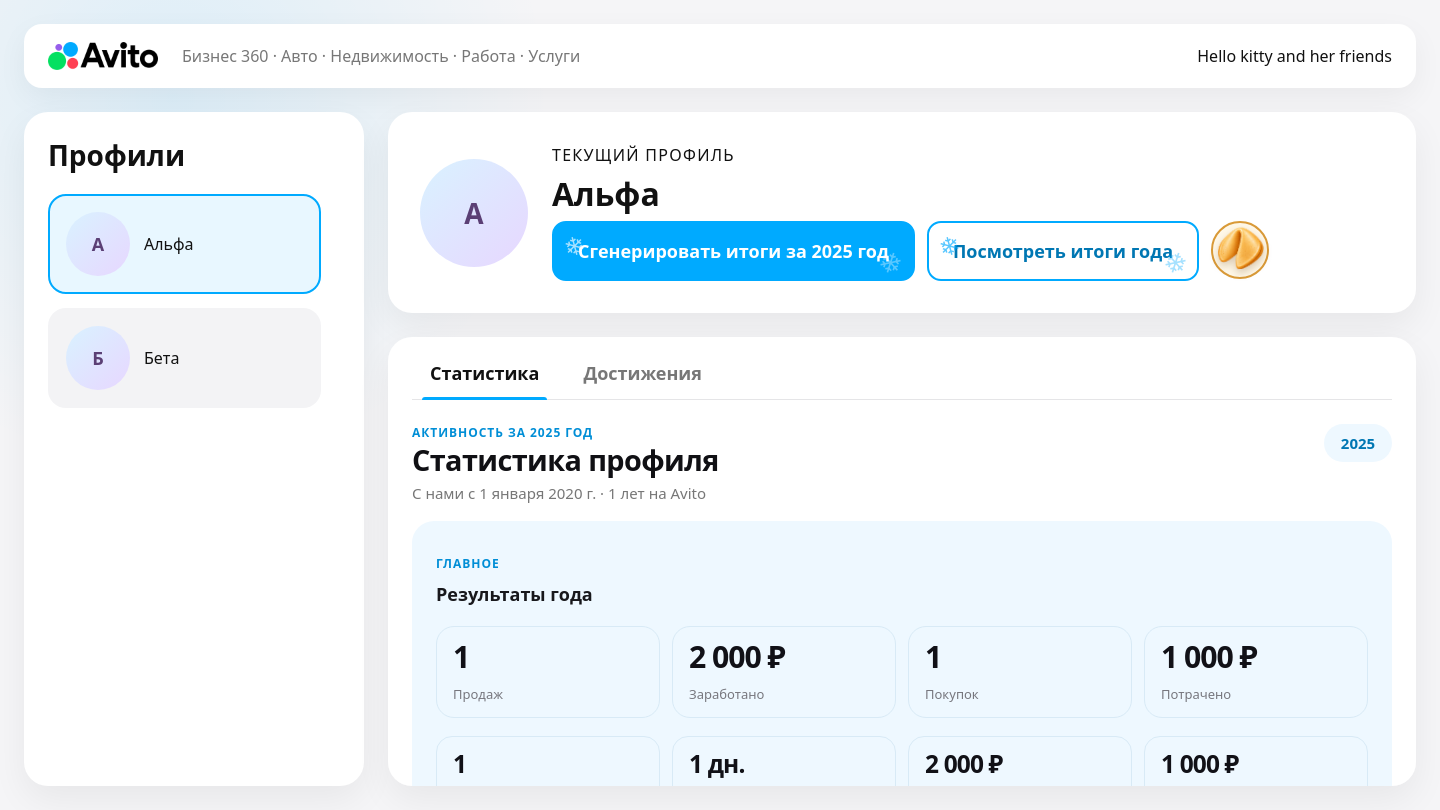
Test: смена профиля › загружает статистику и достижения выбранного профиля
Click the button "Б Бета" at (98, 358), box [48,308,321,408]
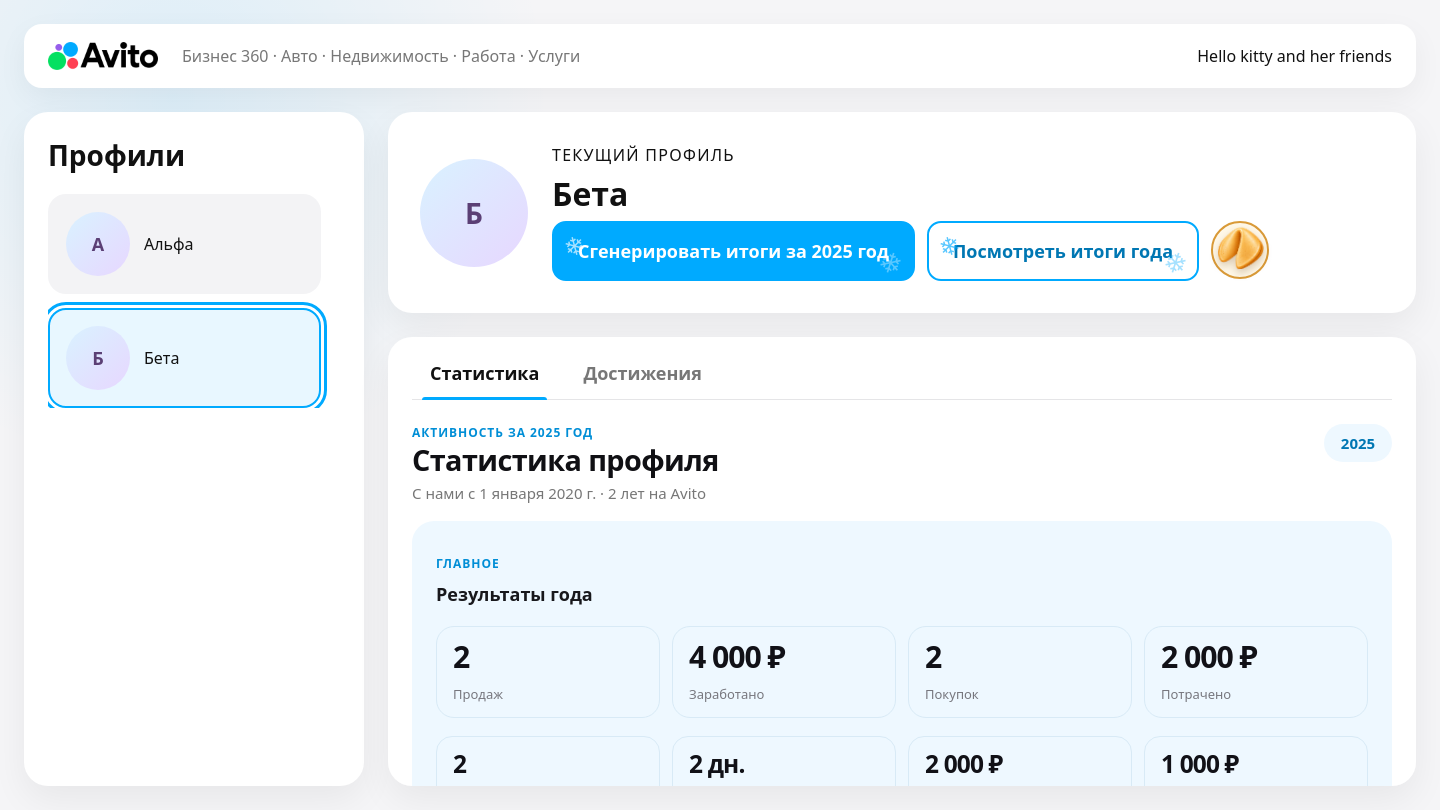
Check: the heading "Бета" is shown, box [552,172,628,215]
Click the tab "Достижения" at (643, 380), box [565,361,720,399]
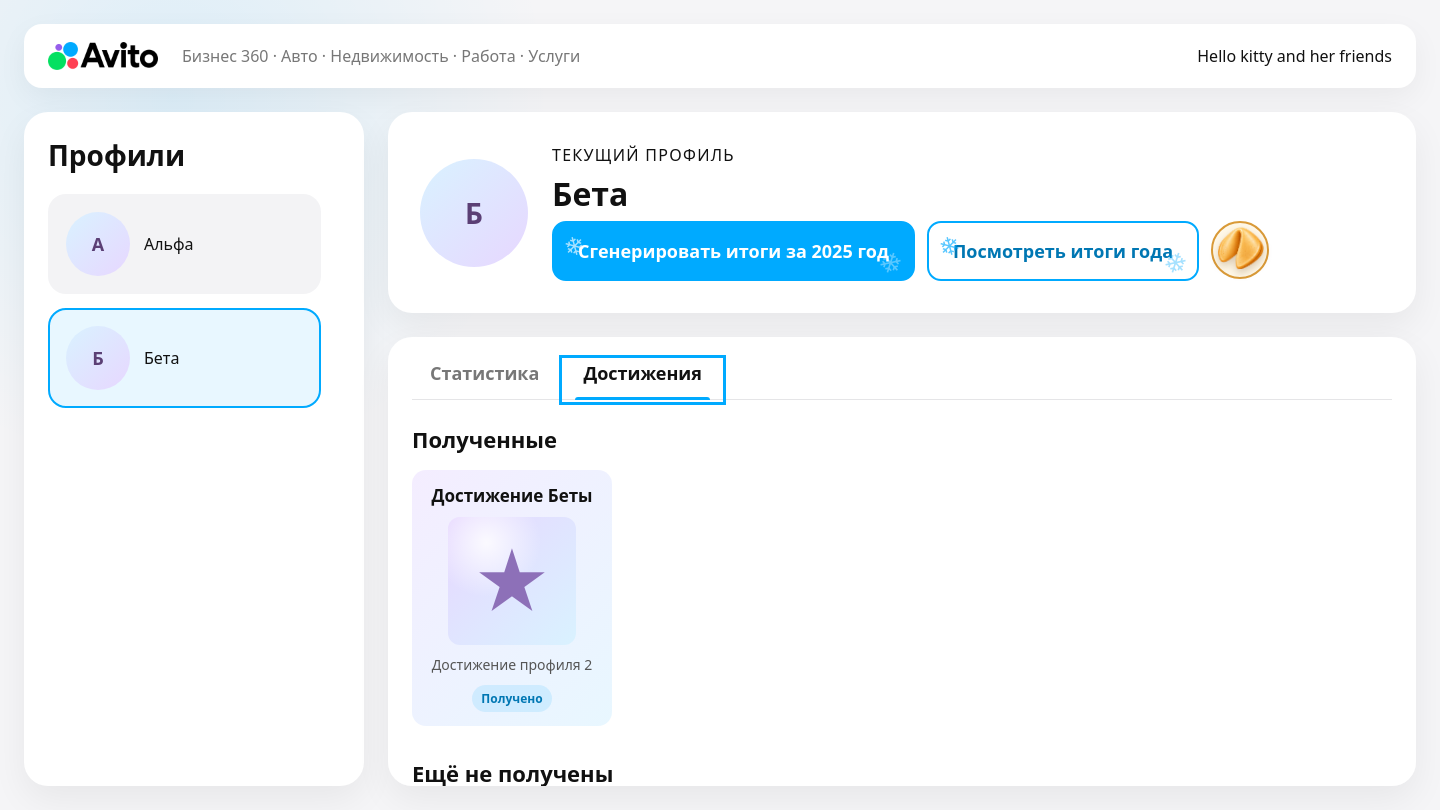
Check: the heading "Достижение Беты" is shown, box [426,484,598,507]
